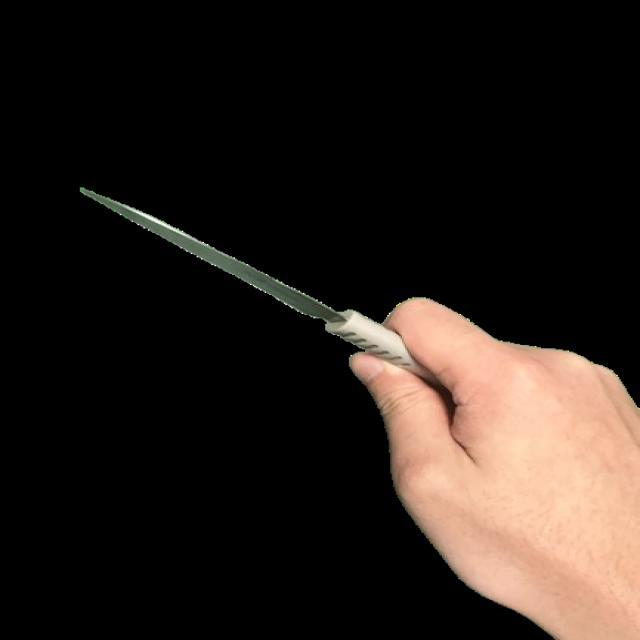knife: (61, 177, 446, 396)
